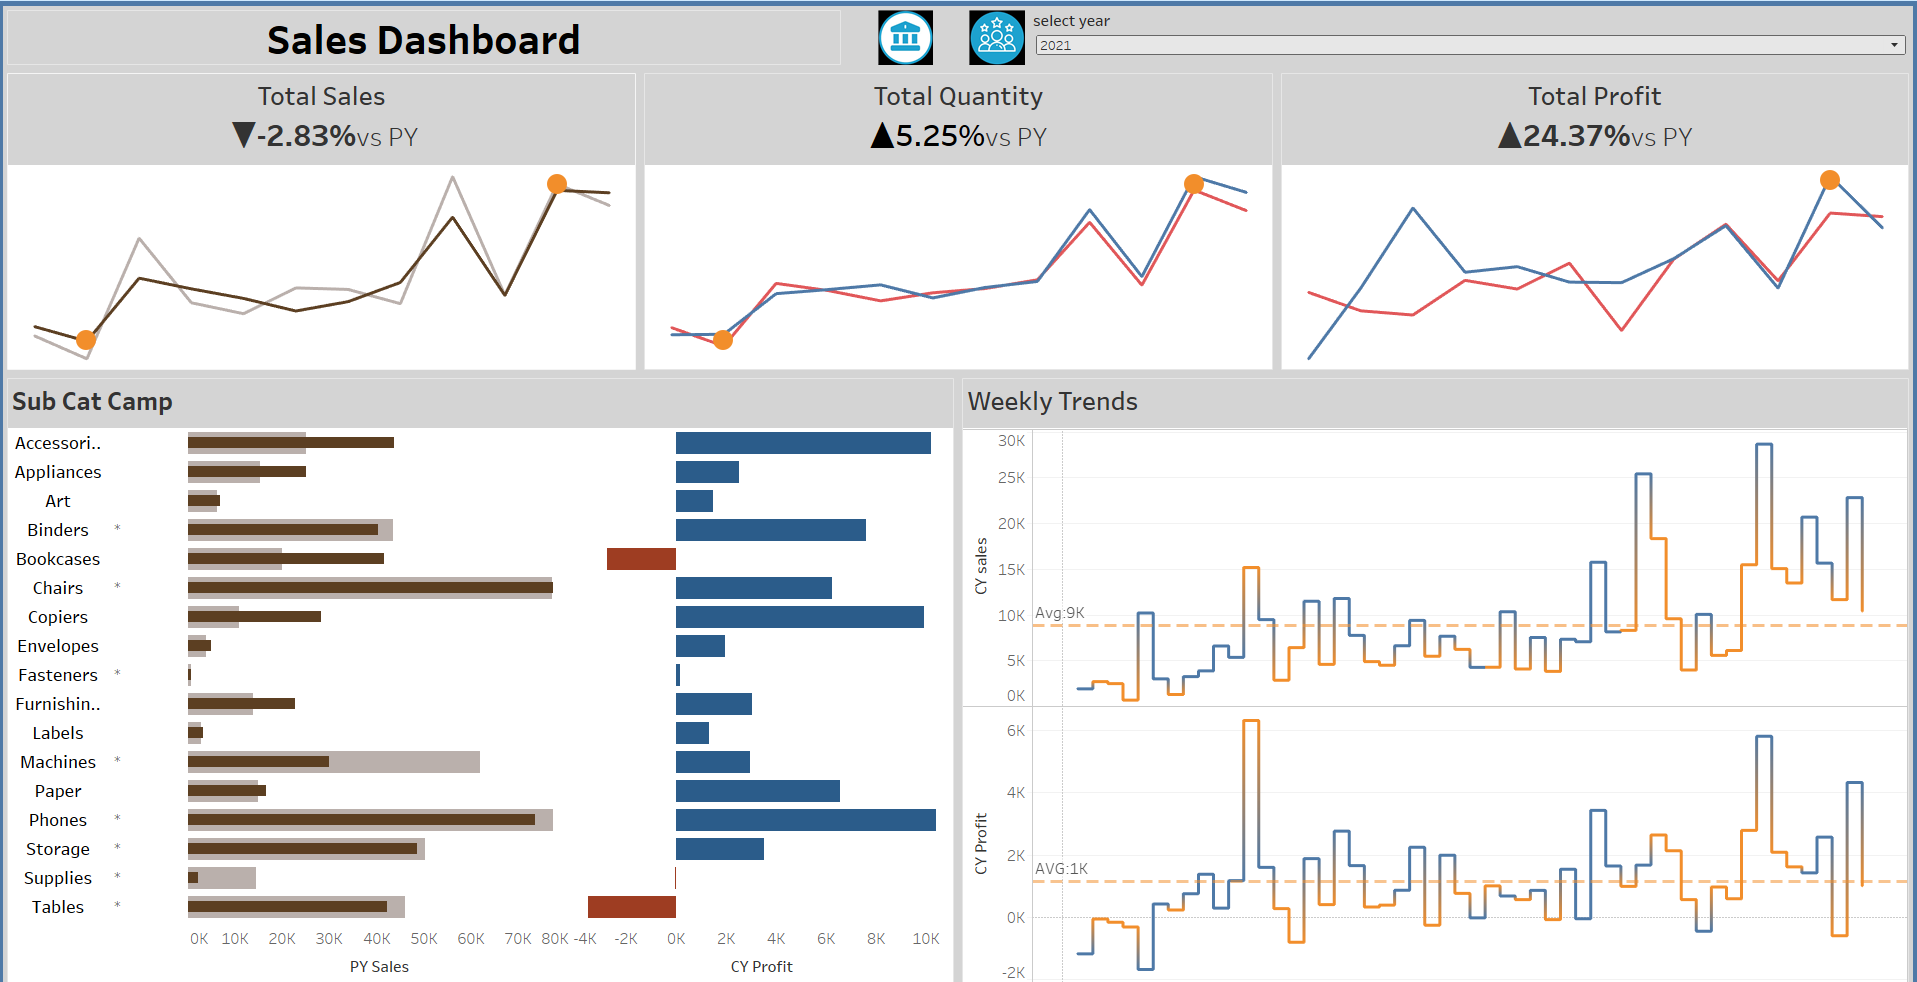

What the dashboard file says about the page in this screenshot:
{"tool":"tableau","page":{"name":"Dashboard 1","canvas":[1000,1000],"units":"permille","ordinal":0},"visuals":[{"type":"text","box":[3,6.2,508.2,78.7]},{"type":"dashboard-object","box":[511.2,6.2,72.4,78.7]},{"type":"dashboard-object","box":[583.6,6.2,38.6,78.7]},{"type":"parameter","param":"[Parameters].[Parameter 1]","box":[622.2,6.2,374.8,78.7]},{"type":"worksheet","title":"KPI Sales","mark":"Automatic","rows":["Calculation_323977718304661517"],"cols":["Order Date"],"box":[3,84.9,331.3,380.8]},{"type":"worksheet","title":"KPI Quantity","mark":"Automatic","rows":["Calculation_323977718304661517"],"cols":["Order Date"],"box":[334.3,84.9,331.3,380.8]},{"type":"worksheet","title":"KPI Profit ","mark":"Automatic","rows":["MIn/Max sales (copy)_478507481528025089"],"cols":["Order Date"],"box":[665.7,84.9,331.3,380.8]},{"type":"worksheet","title":"Sub category comp","mark":"Bar","rows":["Sub-Category","Calculation_478507481535262731"],"cols":["Calculation_323977718294622211","Calculation_323977718294204417","Calculation_323977718299521030"],"box":[3,465.7,497.3,528.1]},{"type":"worksheet","title":"Weekly Trends","mark":"Automatic","rows":["Calculation_323977718294204417","Calculation_323977718299521030"],"cols":["Order Date"],"box":[500.3,465.7,496.7,528.1]}]}

Visuals, with their boxes on the dashboard's canvas, which has no fixed pixel size, in thousandths of its width and height (x1, y1, x2, y2). These are canvas units, not pixel positions in the 1917x982 screenshot, which may show the page scaled, cropped or inside an application window:
text: rect(3, 6, 511, 85)
dashboard-object: rect(511, 6, 584, 85)
dashboard-object: rect(584, 6, 622, 85)
parameter: rect(622, 6, 997, 85)
"KPI Sales" worksheet: rect(3, 85, 334, 466)
"KPI Quantity" worksheet: rect(334, 85, 666, 466)
"KPI Profit " worksheet: rect(666, 85, 997, 466)
"Sub category comp" worksheet (Bar marks): rect(3, 466, 500, 994)
"Weekly Trends" worksheet: rect(500, 466, 997, 994)
